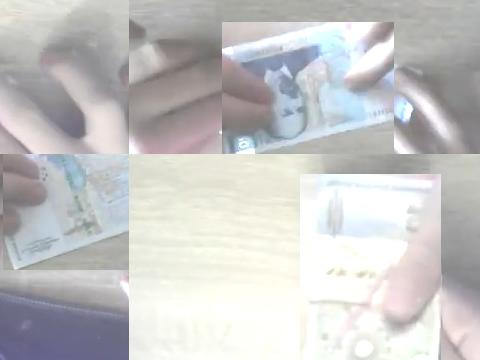10leva: (300, 174, 441, 360)
20leva: (222, 22, 394, 154), (3, 154, 129, 270)
